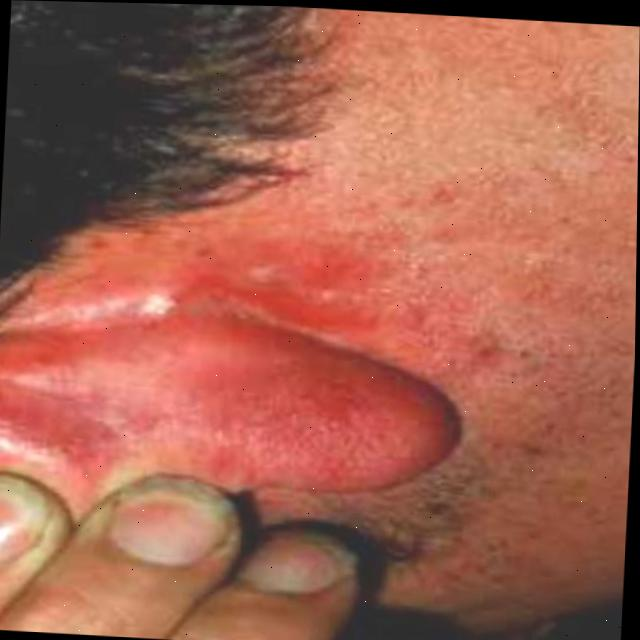Rosacea: (38, 225, 413, 434)
